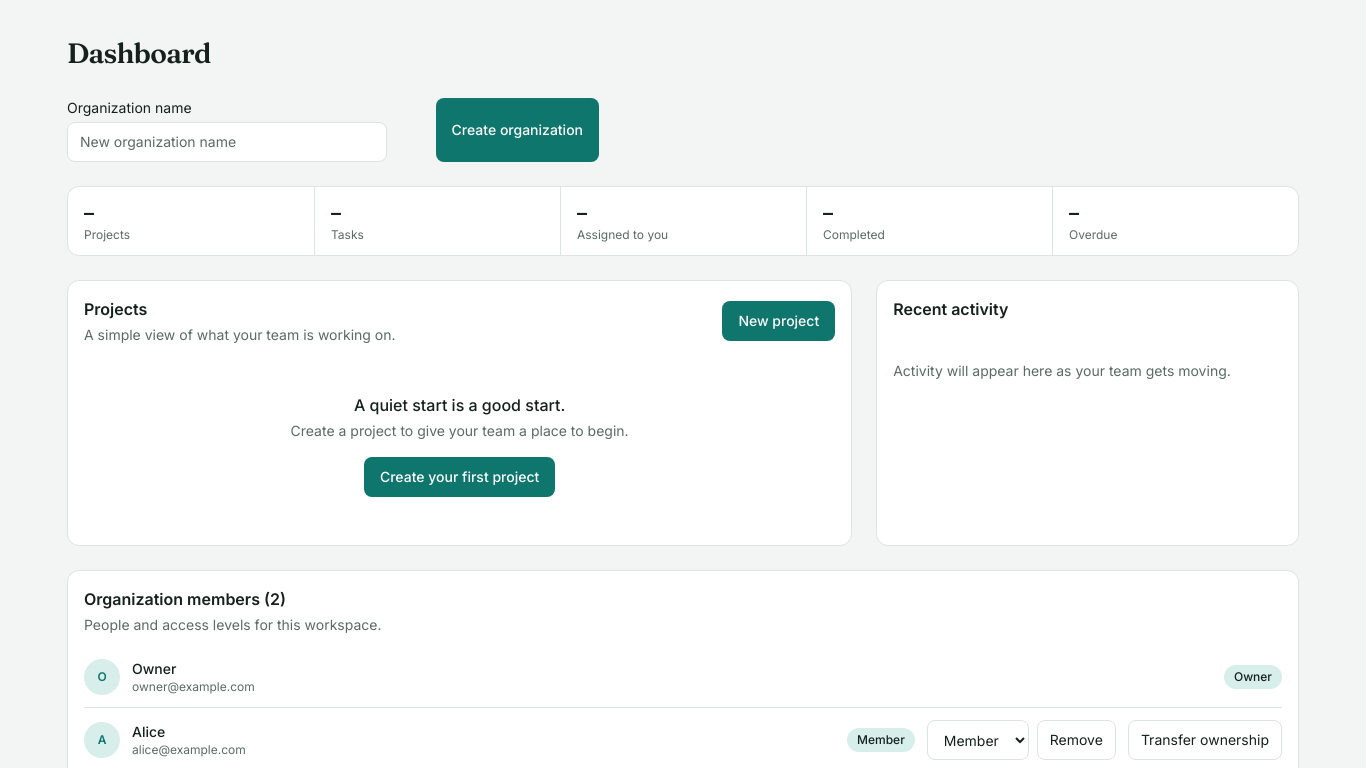
Scenario: transfer ownership › shows a toast with the API error message on failure
Click the button with aria-label "Transfer ownership to Alice". click: (1205, 740)
box: [1128, 720, 1282, 760]
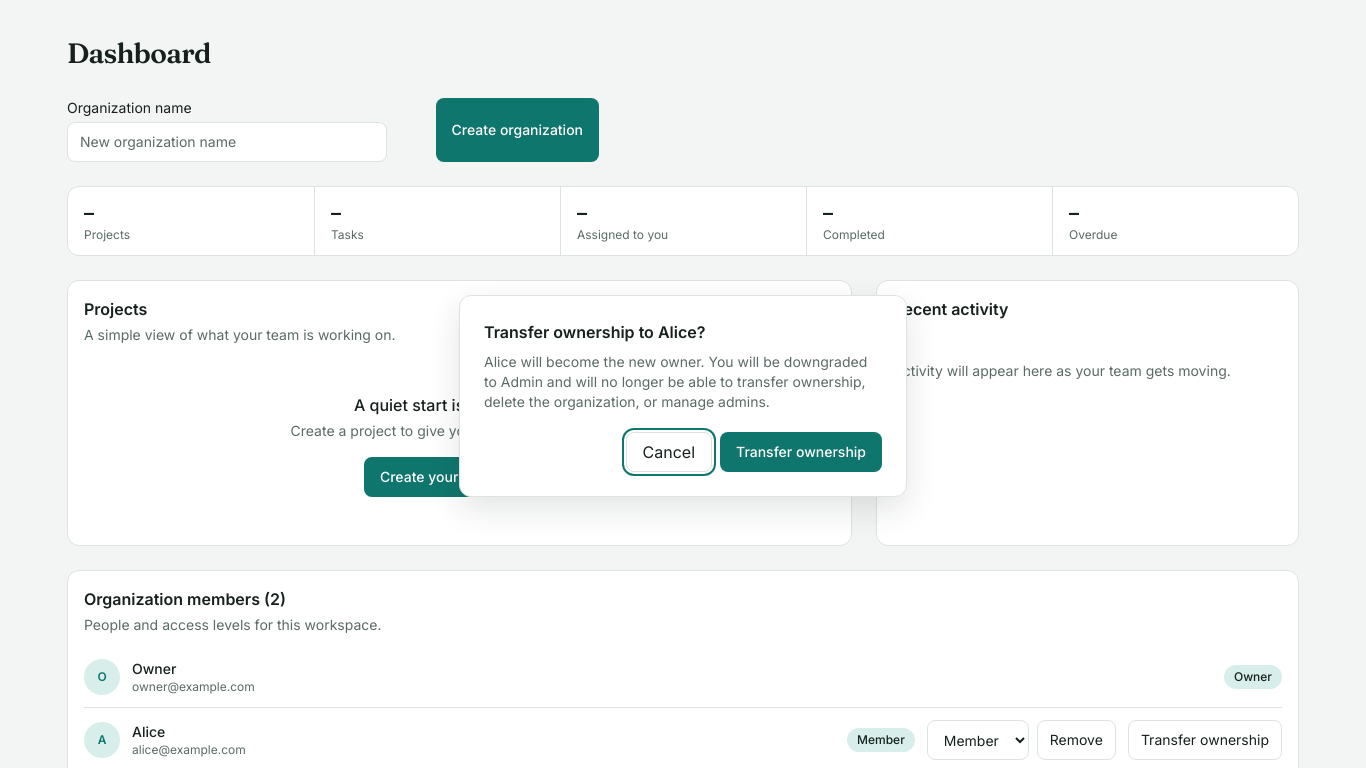
Expected: the dialog is shown, [459, 295, 907, 497]
Click the button "Transfer ownership". click: (801, 452)
box: [720, 432, 882, 472]
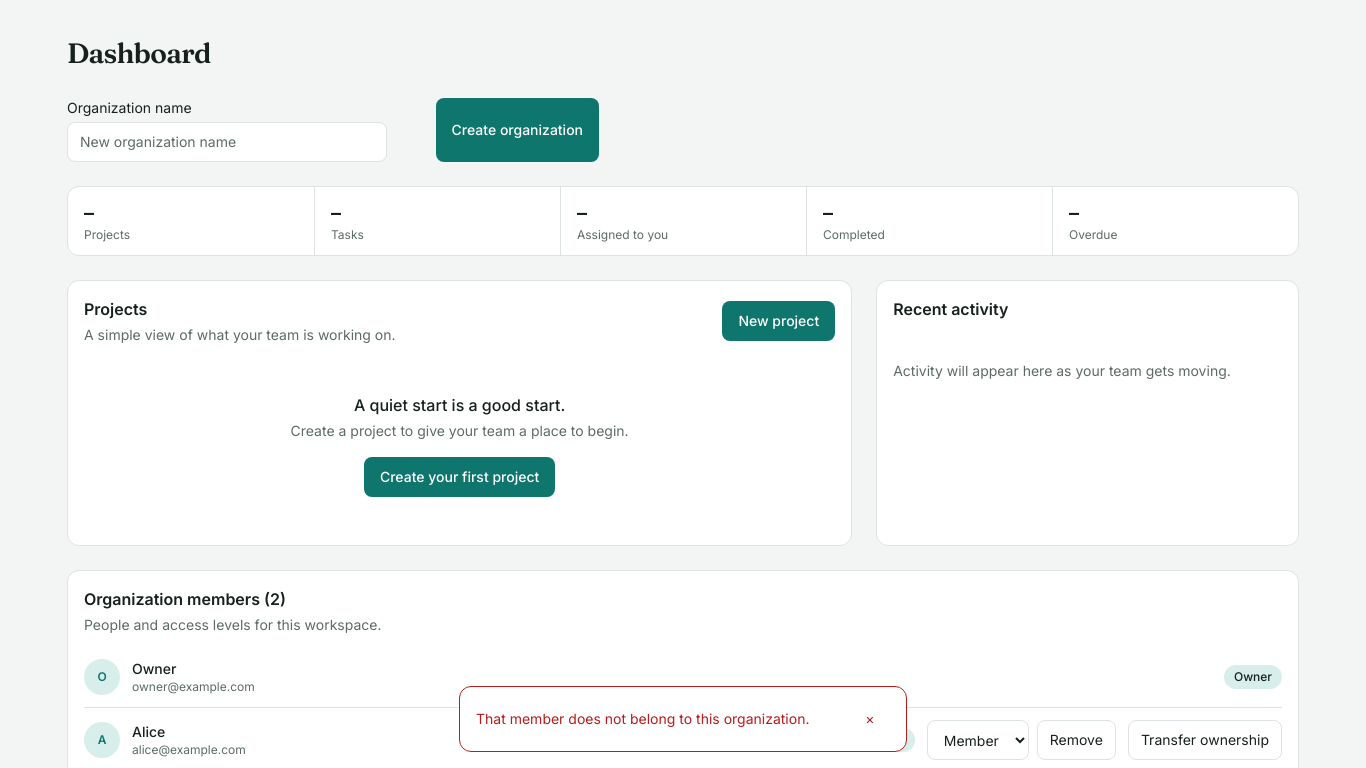
Expected: the text "That member does not belong to this organization." is shown, [476, 709, 838, 729]
